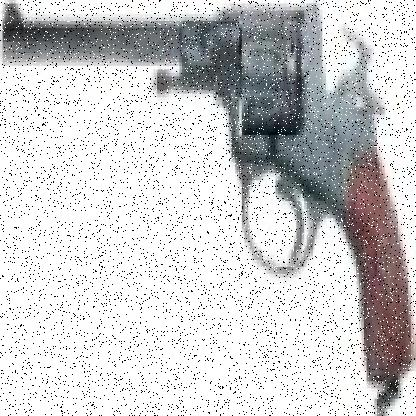pistol: (5, 3, 400, 374)
